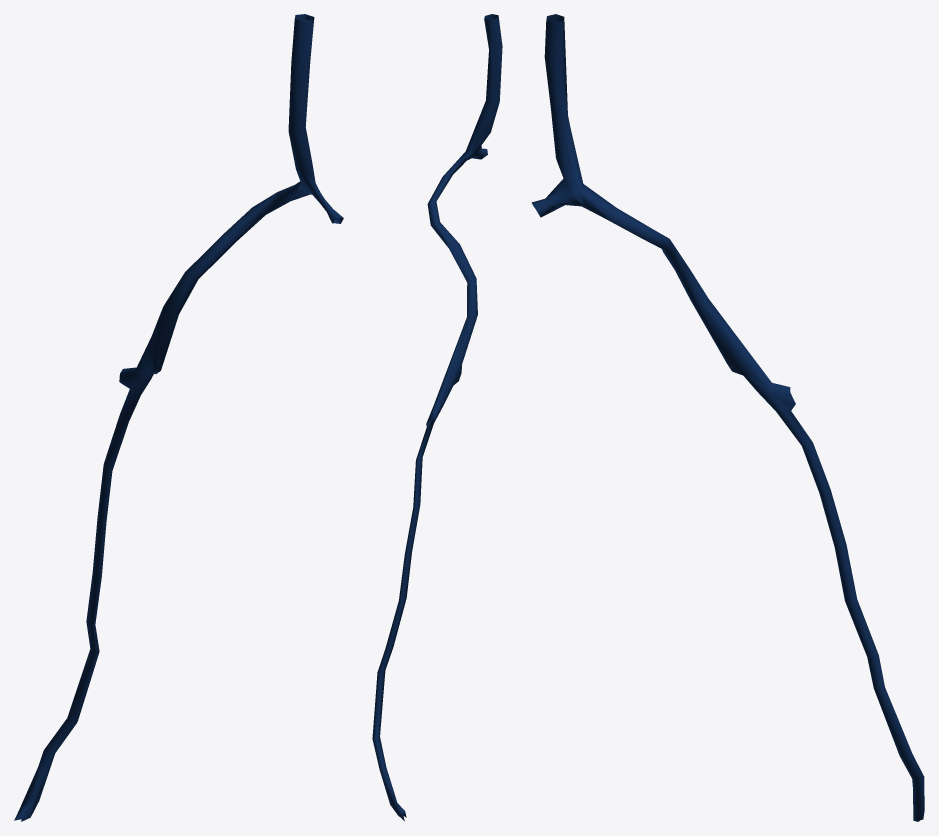
Rendered from R vena mediana.fbx.
3 views of the same model, side by side, from view 1: azimuth 30°, elevation 25°; view 2: azimuth 150°, elevation 25°; view 3: azimuth 270°, elevation 25° (orthographic). The views are drawn at different scales.
Visible parts, largest first — view 1: R vena mediana, R vena mediana low; view 2: R vena mediana, R vena mediana low; view 3: R vena mediana, R vena mediana low.
Boxes of the visible parts, x1,y1,x2,y2 form: R vena mediana: (14, 14, 343, 821); R vena mediana low: (14, 14, 343, 821); R vena mediana: (372, 14, 502, 819); R vena mediana low: (374, 14, 501, 821); R vena mediana: (531, 14, 924, 821); R vena mediana low: (532, 14, 924, 820).
Size of the model in its own units: 3.01 by 21.77 by 9.24.
